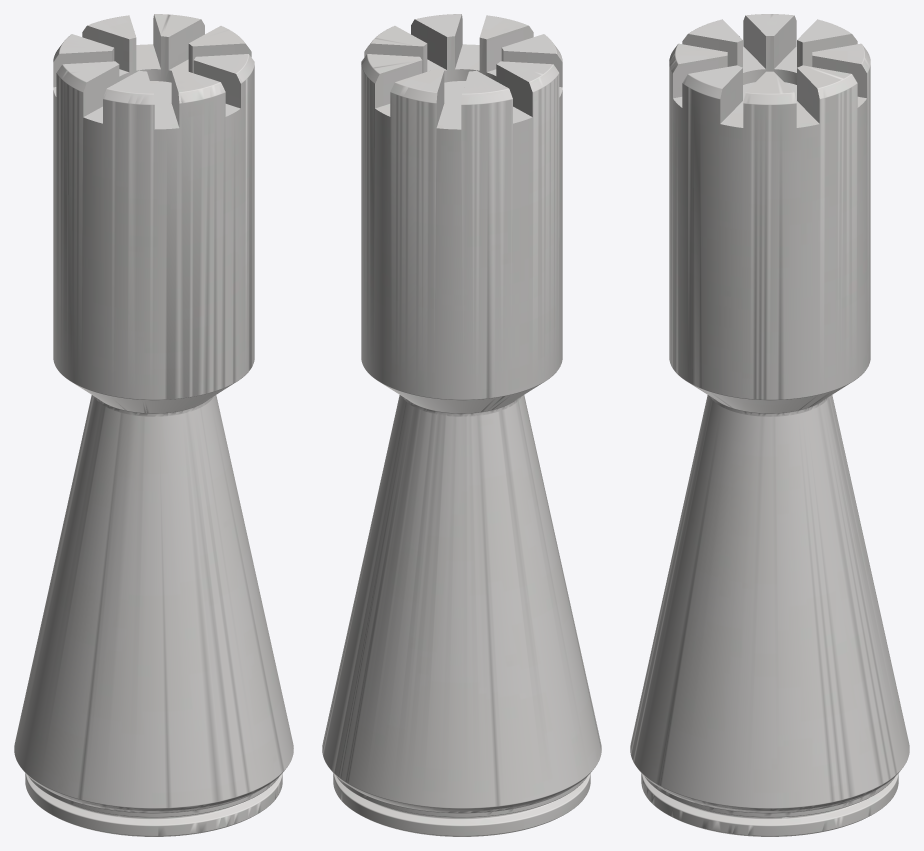
File: king-white-hd.glb
3 views of the same model, side by side, from view 1: azimuth 30°, elevation 25°; view 2: azimuth 150°, elevation 25°; view 3: azimuth 270°, elevation 25° (orthographic).
Parts seen in each view (by area): view 1: 01_kral_bila; view 2: 01_kral_bila; view 3: 01_kral_bila.
Part boxes in pixels (x1,y1,x2,y2): 01_kral_bila: (14, 14, 293, 836); 01_kral_bila: (322, 14, 601, 836); 01_kral_bila: (630, 14, 909, 836).
Bounding box in the file's own units: 0.5729 × 1.65 × 0.5729.
1 material, 1 textured.
